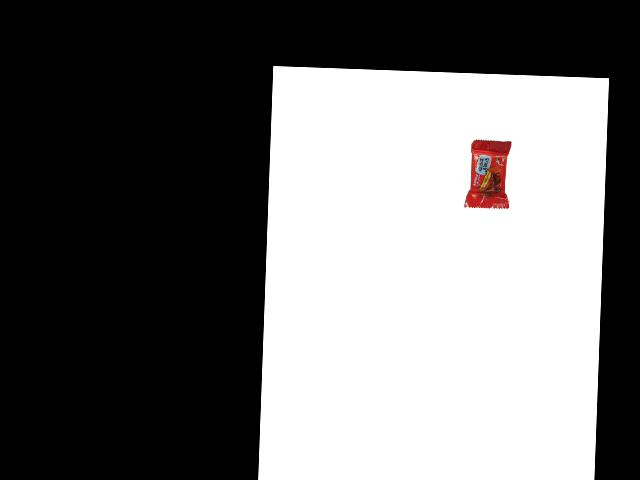chocolate: (459, 133, 511, 209)
